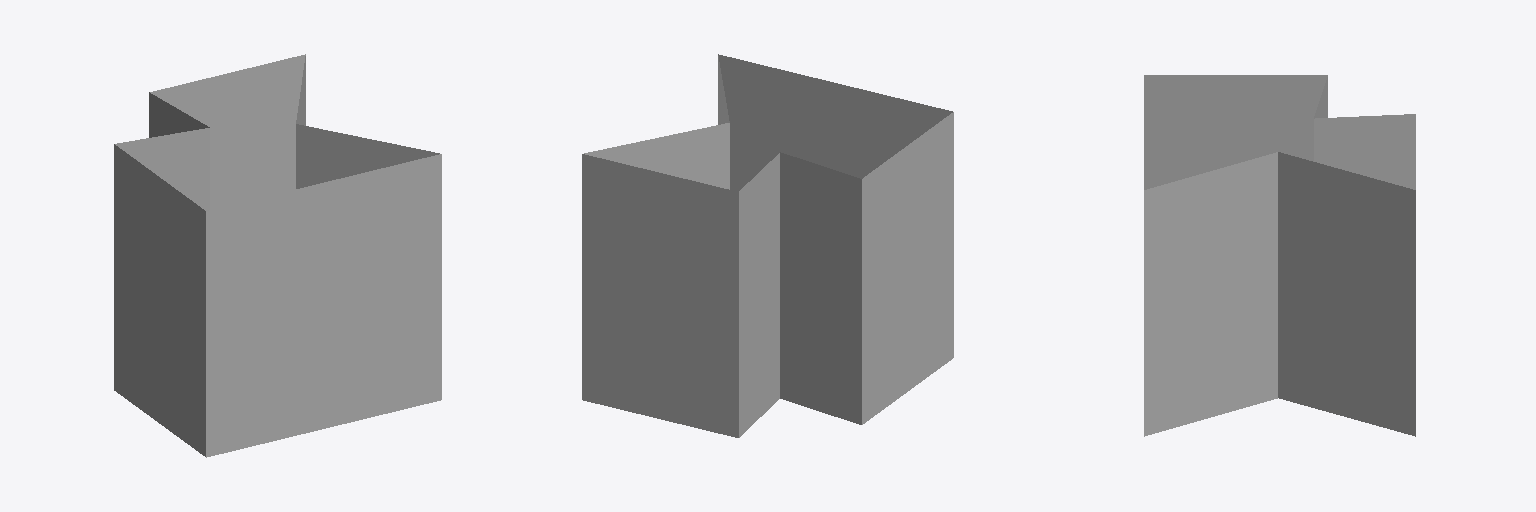
File: self_reflection_test.obj
3 renders of one model, left to right at view 1: azimuth 30°, elevation 25°; view 2: azimuth 150°, elevation 25°; view 3: azimuth 270°, elevation 25°, orthographic.
Size of the model in its own units: 0.9014 by 0.9014 by 0.9014.